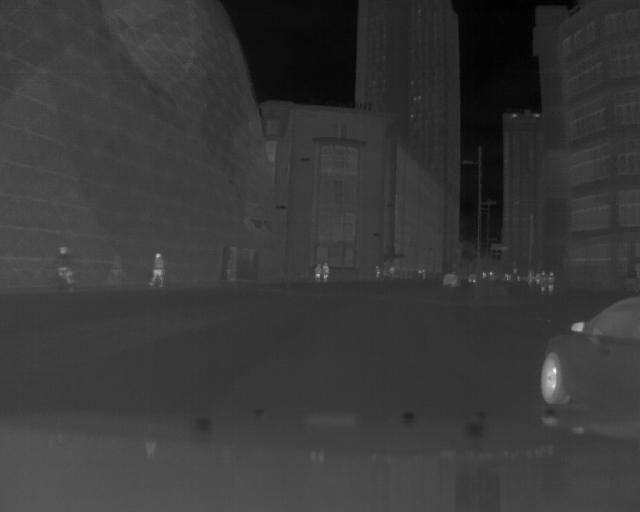car: (539, 293, 637, 413), (442, 269, 466, 287)
person: (52, 239, 80, 296), (149, 250, 171, 293), (111, 249, 131, 291), (542, 269, 561, 296), (315, 263, 326, 289), (374, 262, 381, 280)
